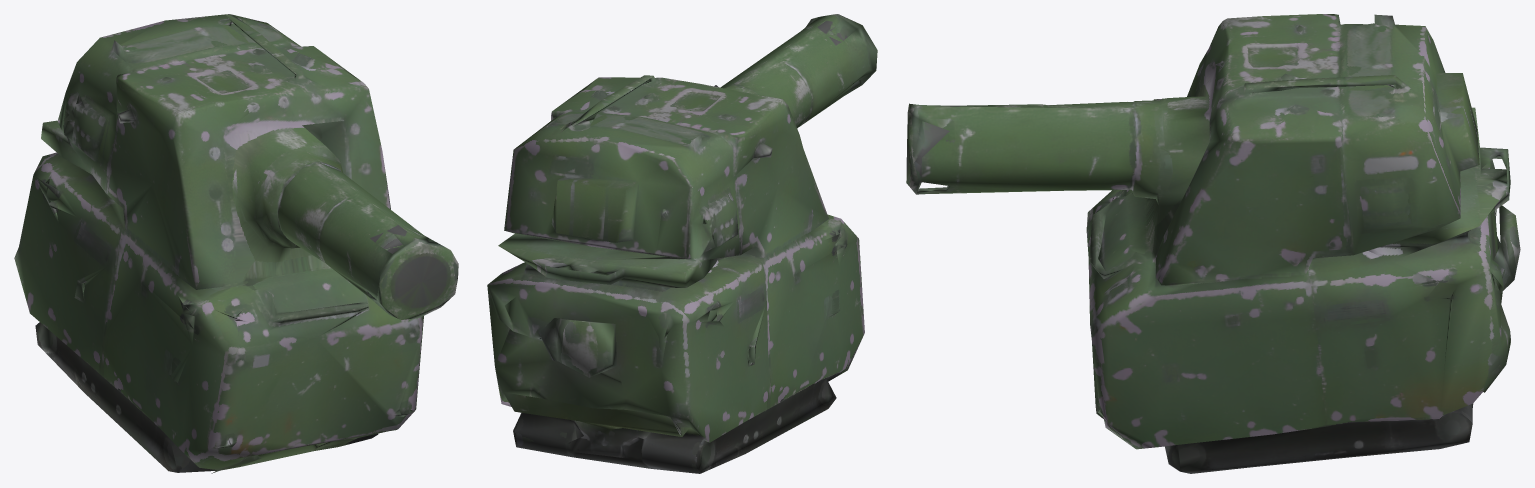
Rendered from hullweapon-b-pixal-lod1.glb.
3 renders of one model, left to right at view 1: azimuth 30°, elevation 25°; view 2: azimuth 150°, elevation 25°; view 3: azimuth 270°, elevation 25°, orthographic. The views are drawn at different scales.
Visible parts, largest first — view 1: Body; view 2: Body; view 3: Body.
Boxes of the visible parts, box(x1,y1,x2,y2) form: Body: box(14, 14, 458, 473); Body: box(487, 14, 877, 473); Body: box(906, 14, 1520, 473).
Size of the model in its own units: 0.7606 by 1.14 by 1.66.
1 material, 1 textured.
